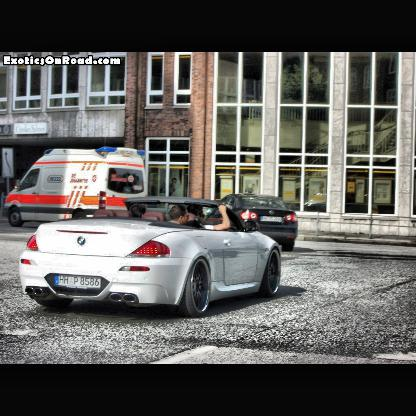BMW M6 Convertible 2010: (17, 198, 283, 318)
